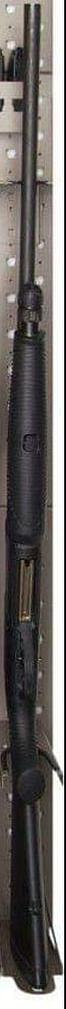gun: (0, 1, 66, 1009)
